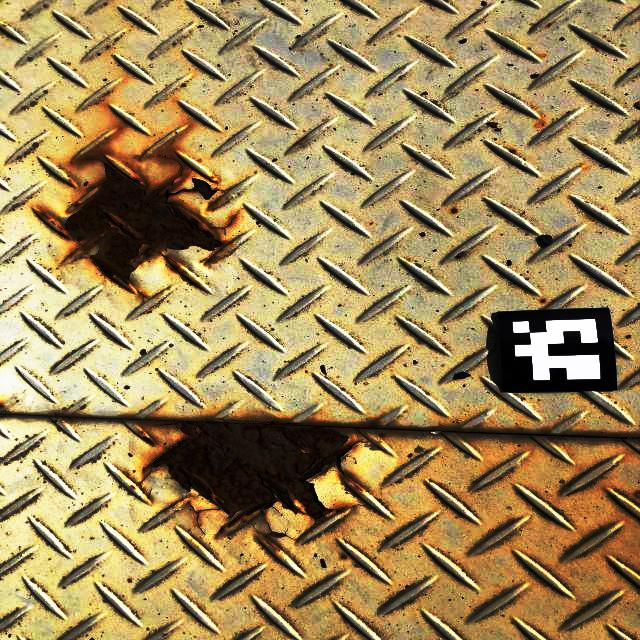Corrosion: (36, 129, 223, 295), (148, 421, 383, 539)
